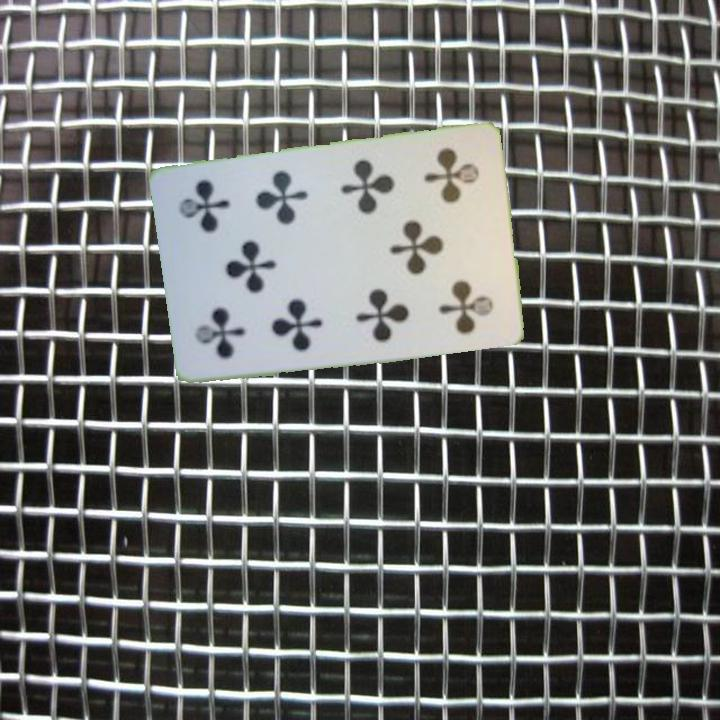c_10.png: (178, 262, 276, 372), (399, 137, 497, 247)
